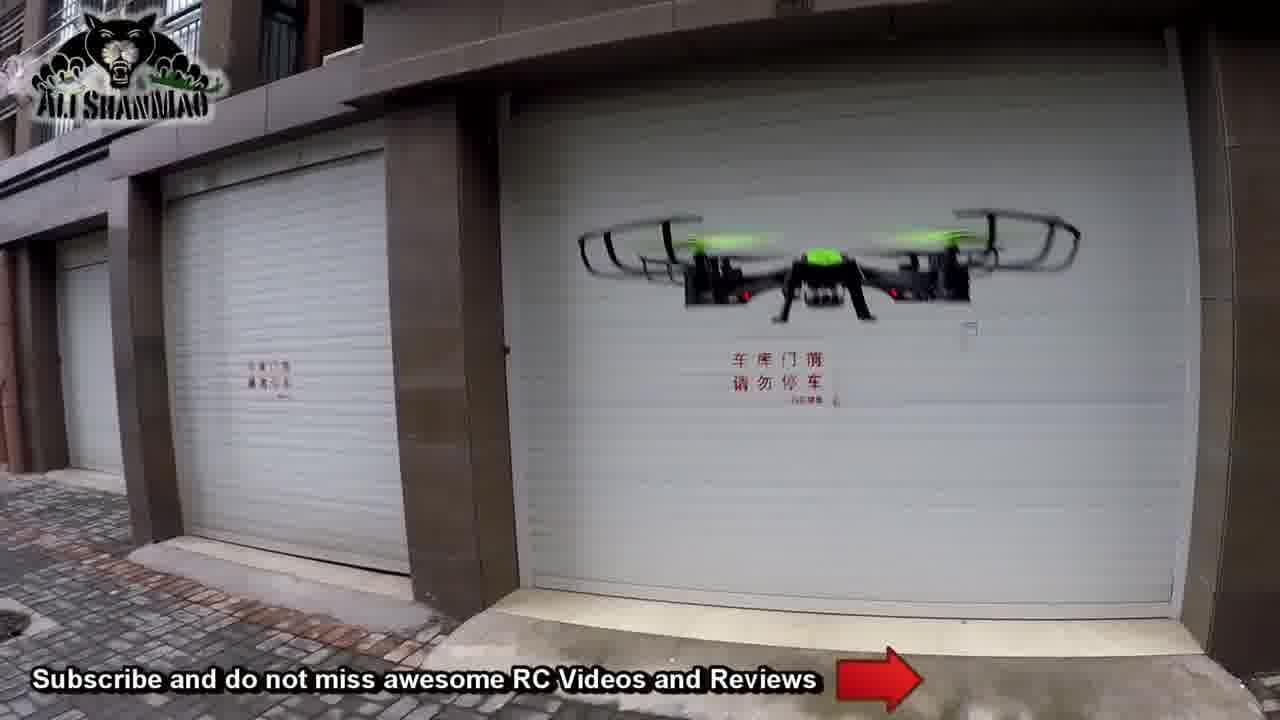drone: (565, 201, 1086, 327)
